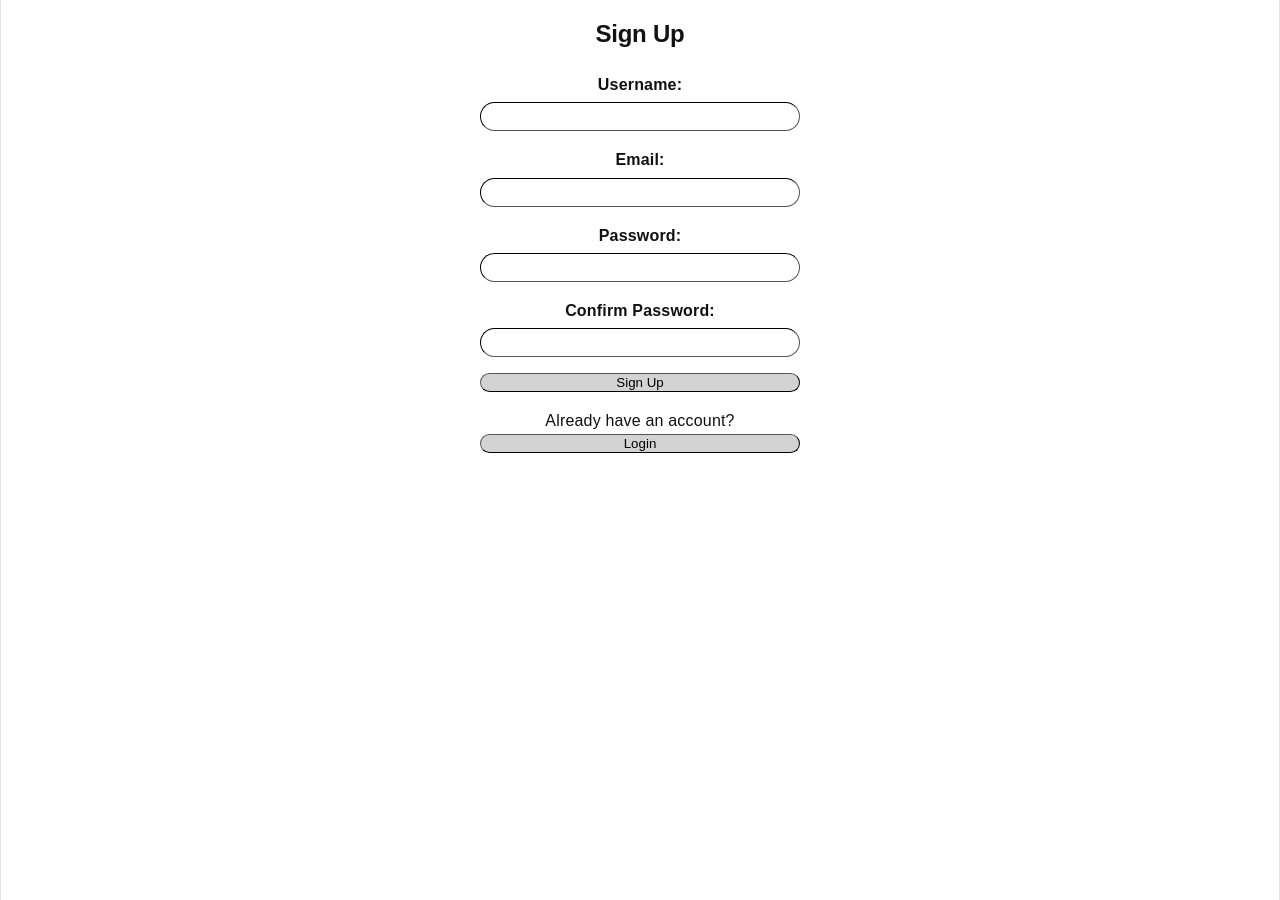
Scenario: shows error when email has no @
This screenshot has width=1280, height=900.
In the field labelled "Username:": (640, 117) [480,102,800,131], type "test user"
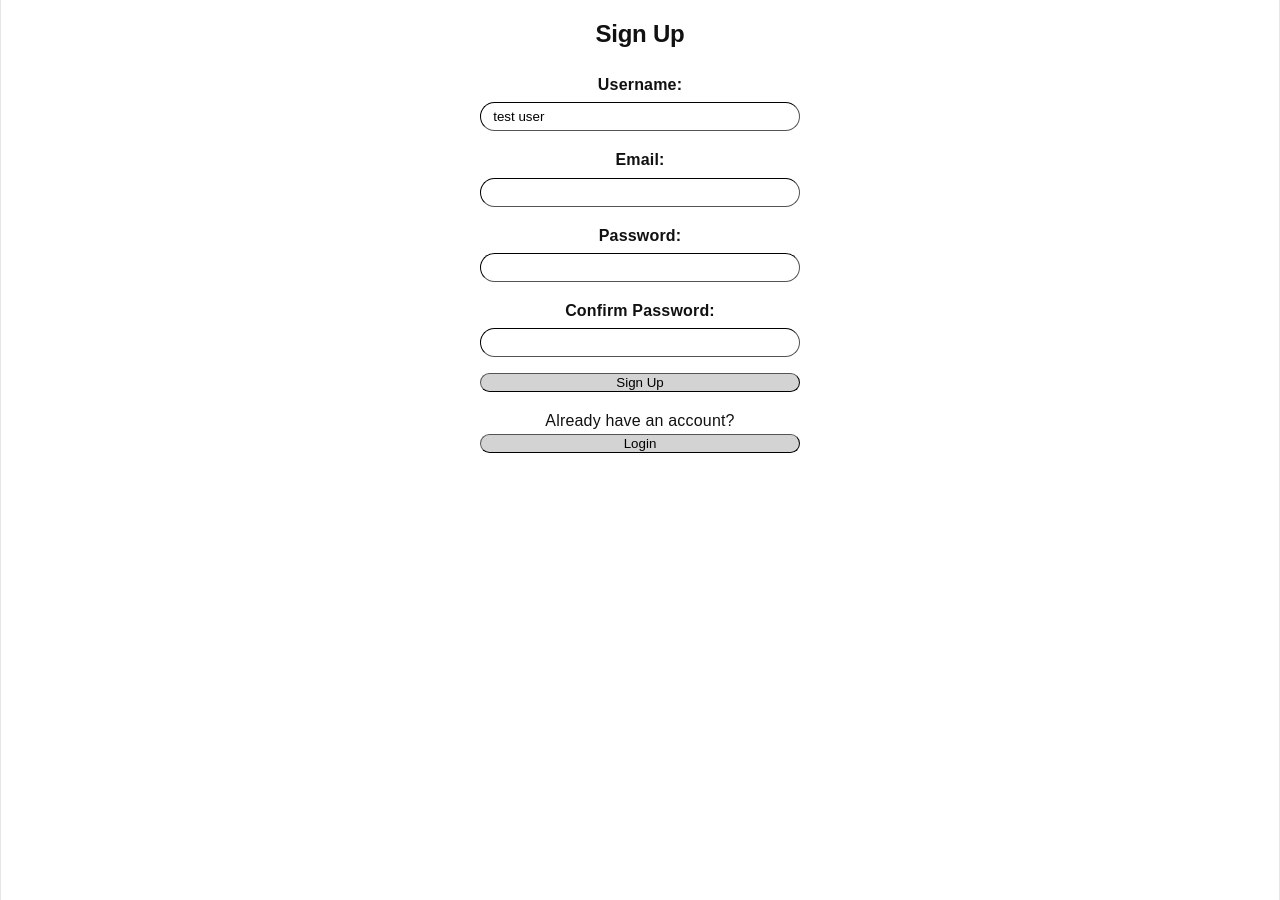
In the field labelled "Email:": (640, 192) [480,178,800,206], type "testtest.com"
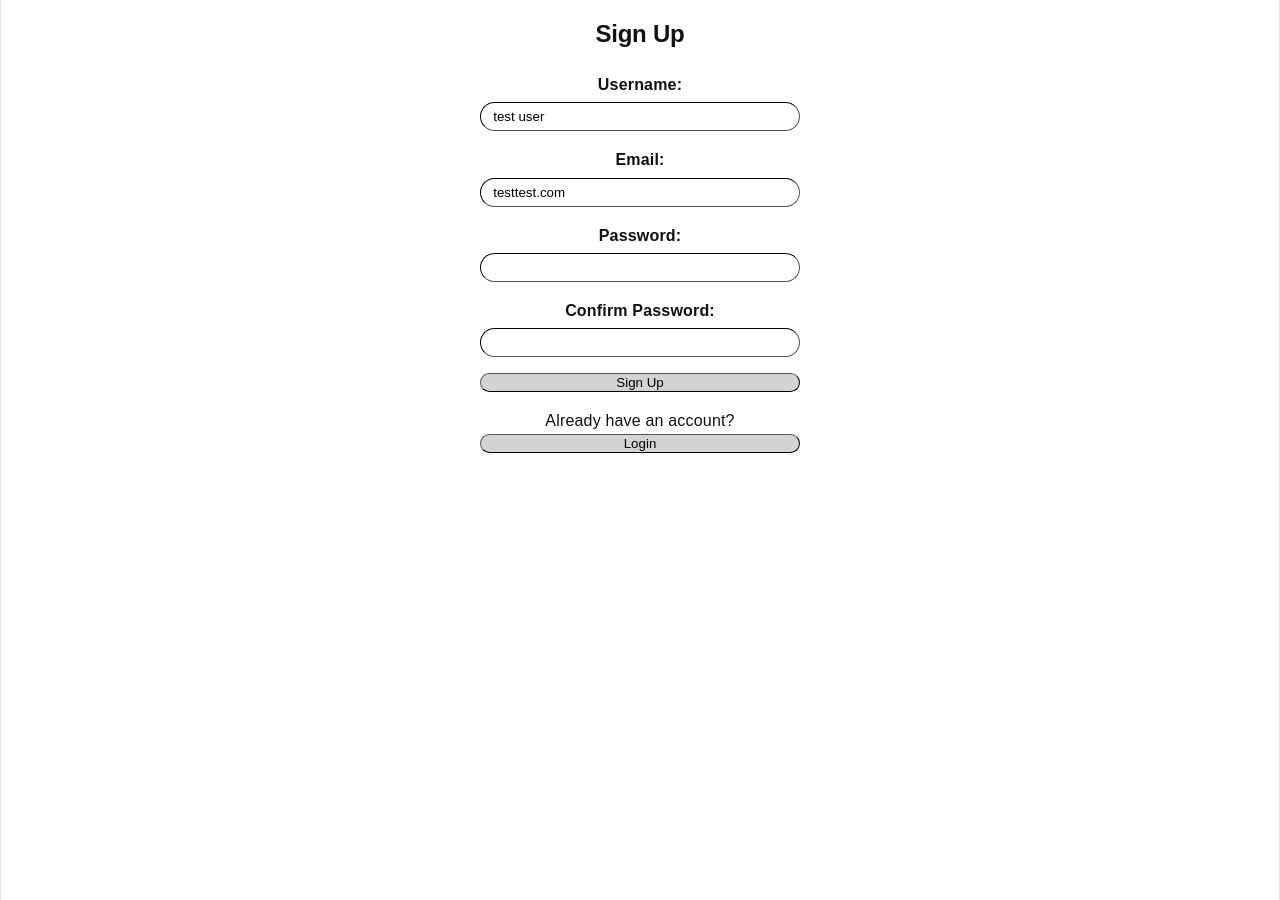
In the password field labelled "Password:": (640, 267) [480,253,800,282], type "password123"
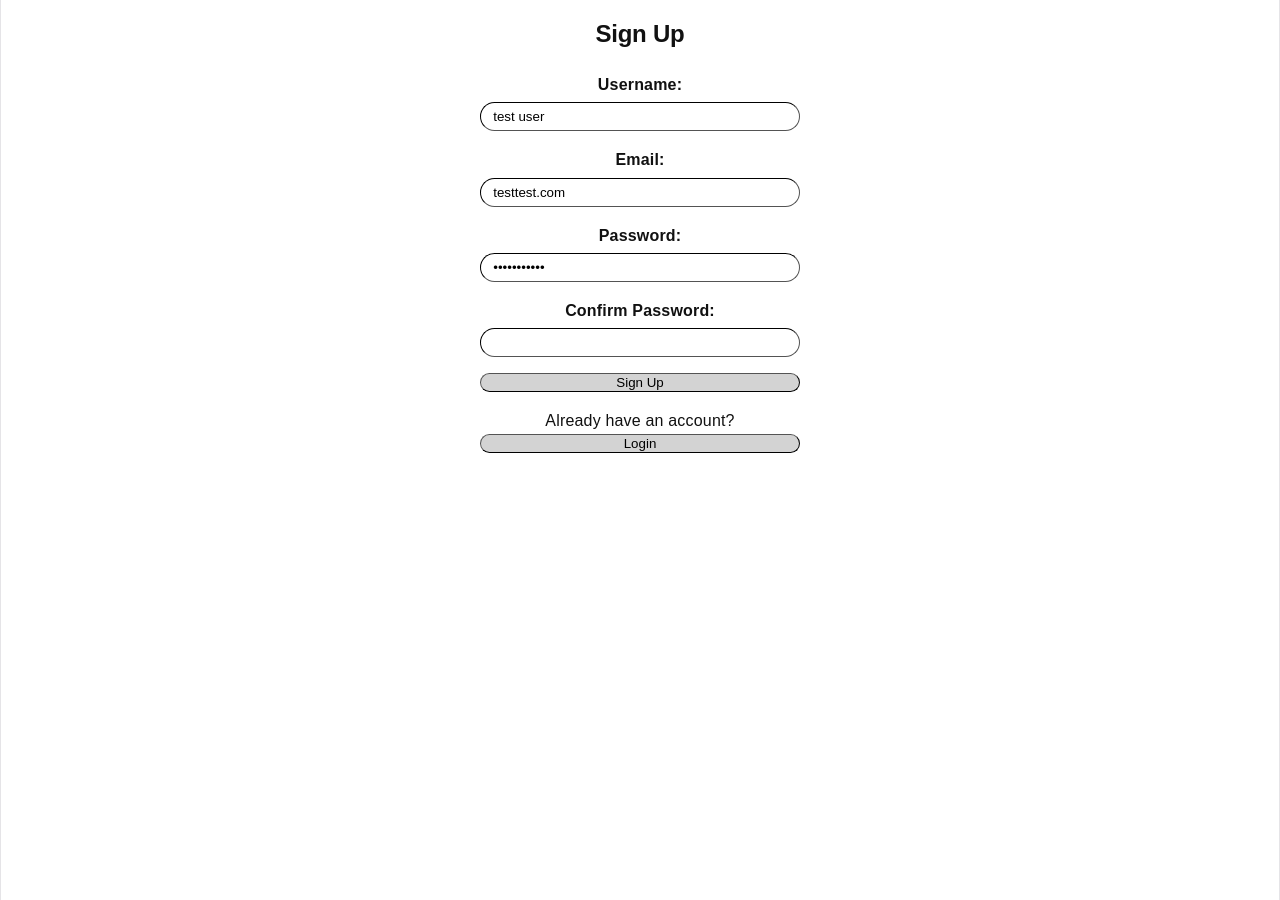
In the password field labelled "Confirm Password:": (640, 342) [480,328,800,357], type "password123"
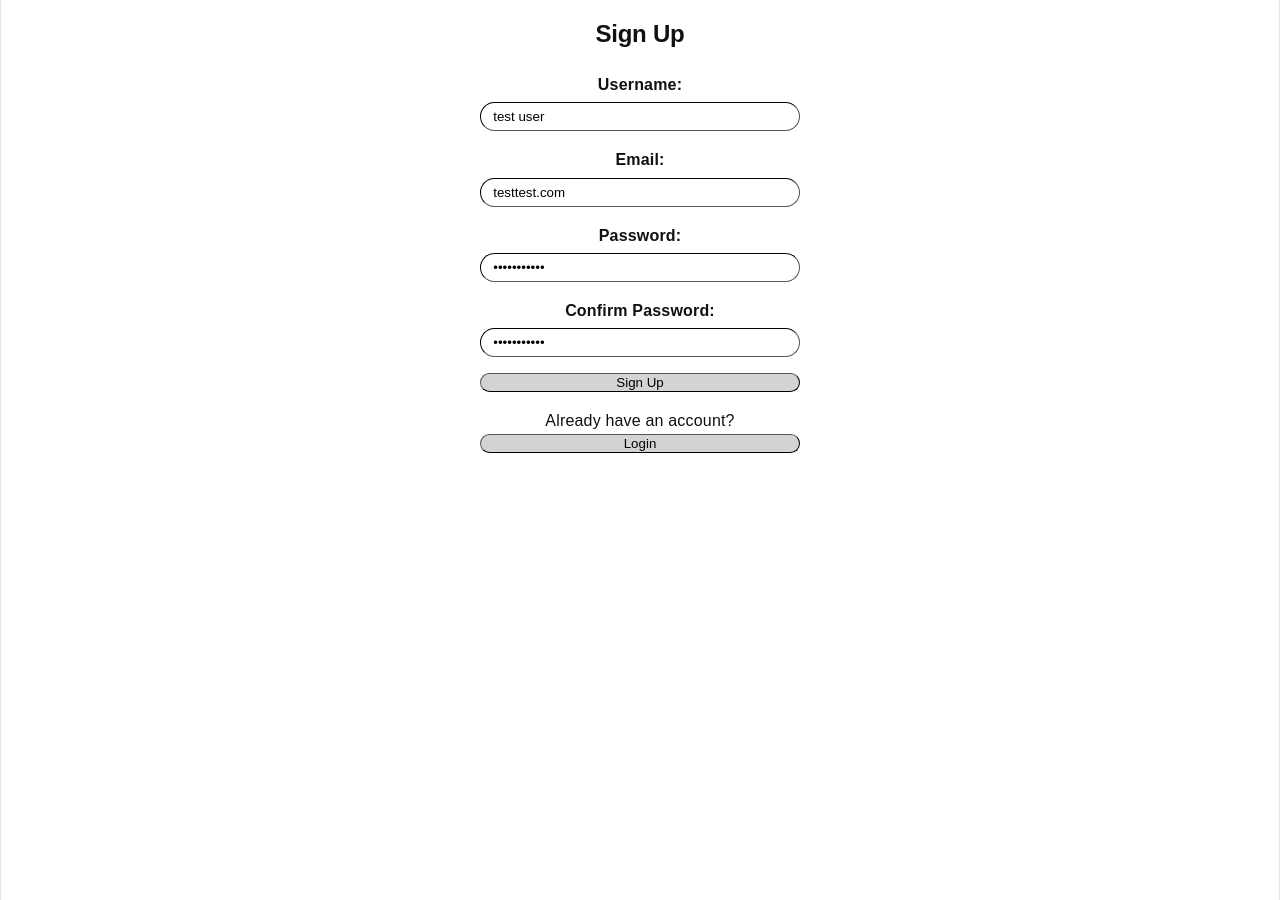
Click the button "Sign Up": (640, 382) [480,373,800,392]
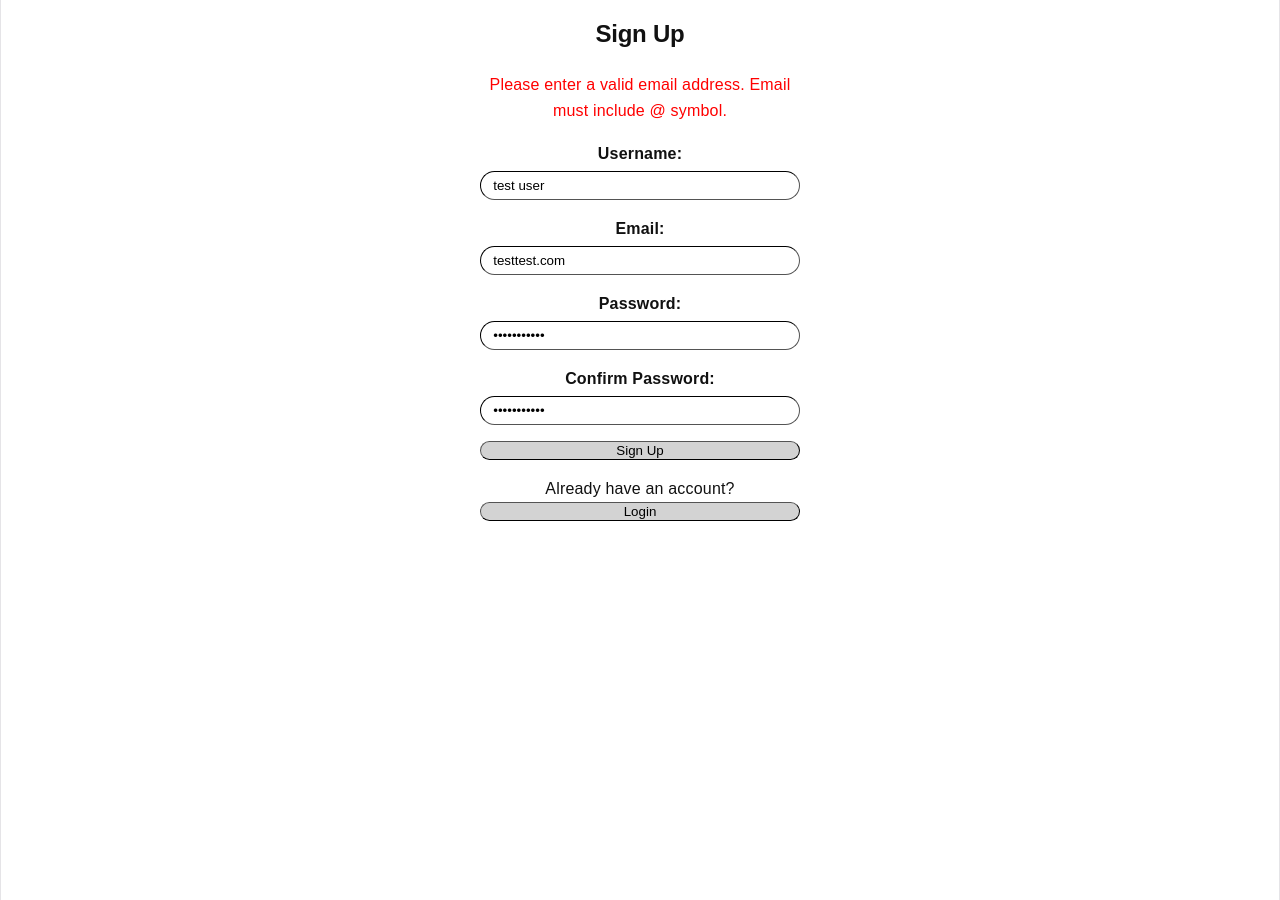
Result: the text "must include @ symbol" is shown at [490,76,790,119]
